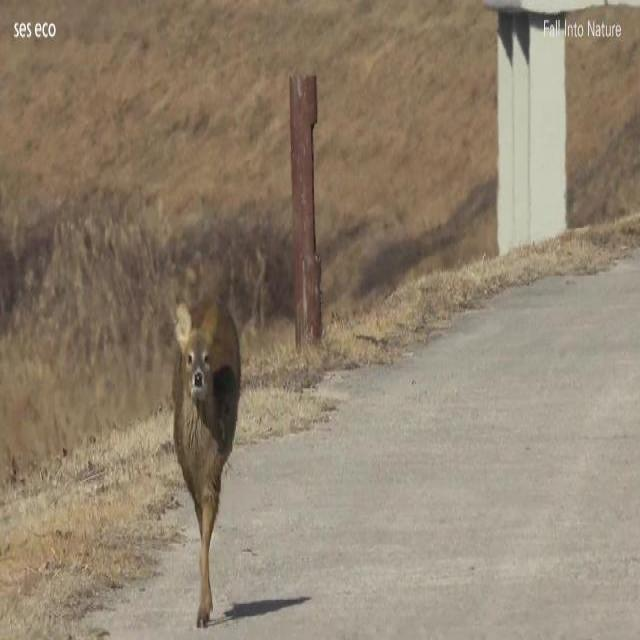deer: (170, 287, 240, 630)
